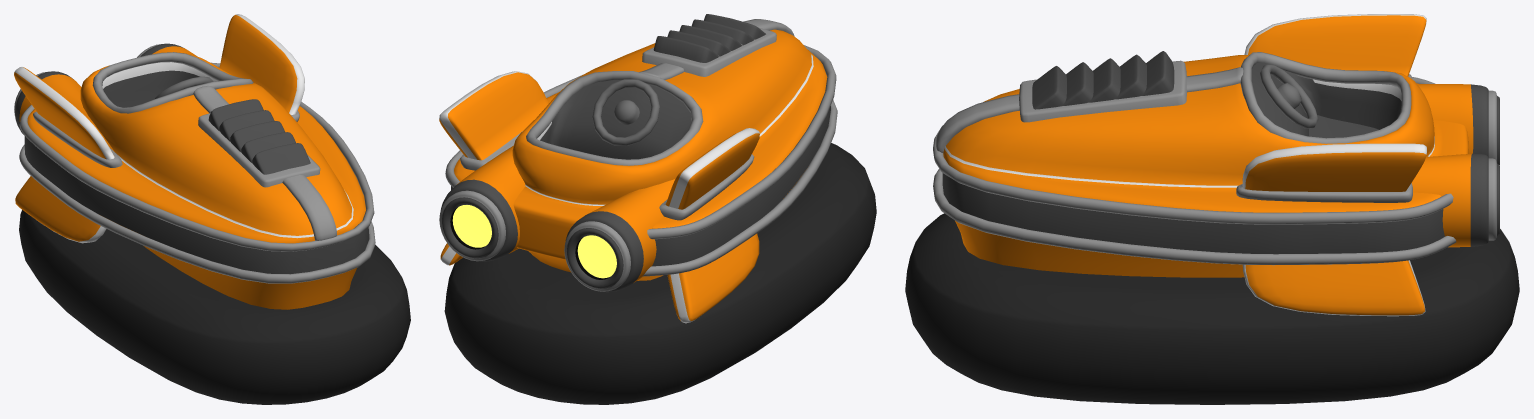
File: mesh_Car_Menu_B.fbx
3 views of the same model, side by side, from view 1: azimuth 30°, elevation 25°; view 2: azimuth 150°, elevation 25°; view 3: azimuth 270°, elevation 25° (orthographic). The views are drawn at different scales.
Visible parts, largest first — view 1: mesh_Car_Menu_B; view 2: mesh_Car_Menu_B; view 3: mesh_Car_Menu_B.
Boxes of the visible parts, x1,y1,x2,y2 form: mesh_Car_Menu_B: [14, 14, 410, 404]; mesh_Car_Menu_B: [439, 14, 876, 404]; mesh_Car_Menu_B: [905, 14, 1519, 404].
Size of the model in its own units: 1.79 by 1.53 by 2.97.
